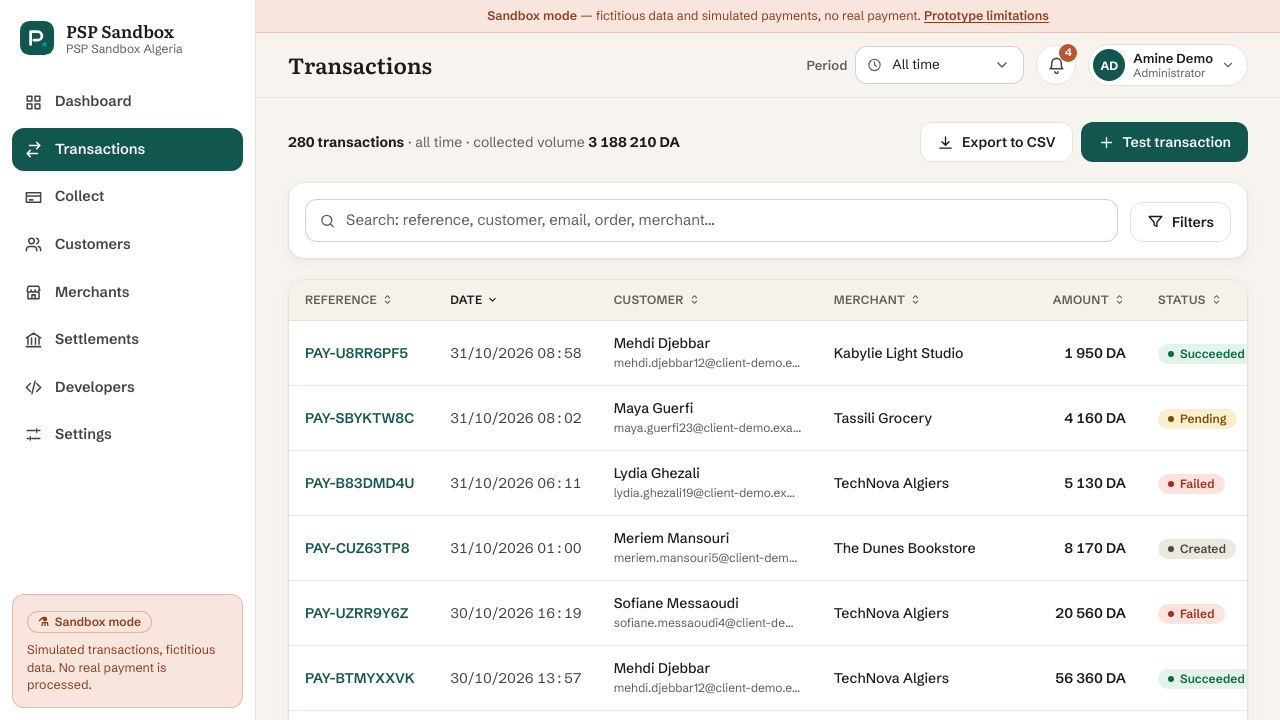
Test case: transaction list: search, filters, sorting, export › regression: a filter clicked while typing is not overwritten by the search debounce
Click the button "Filters" at (1180, 222), box [1130, 202, 1231, 242]
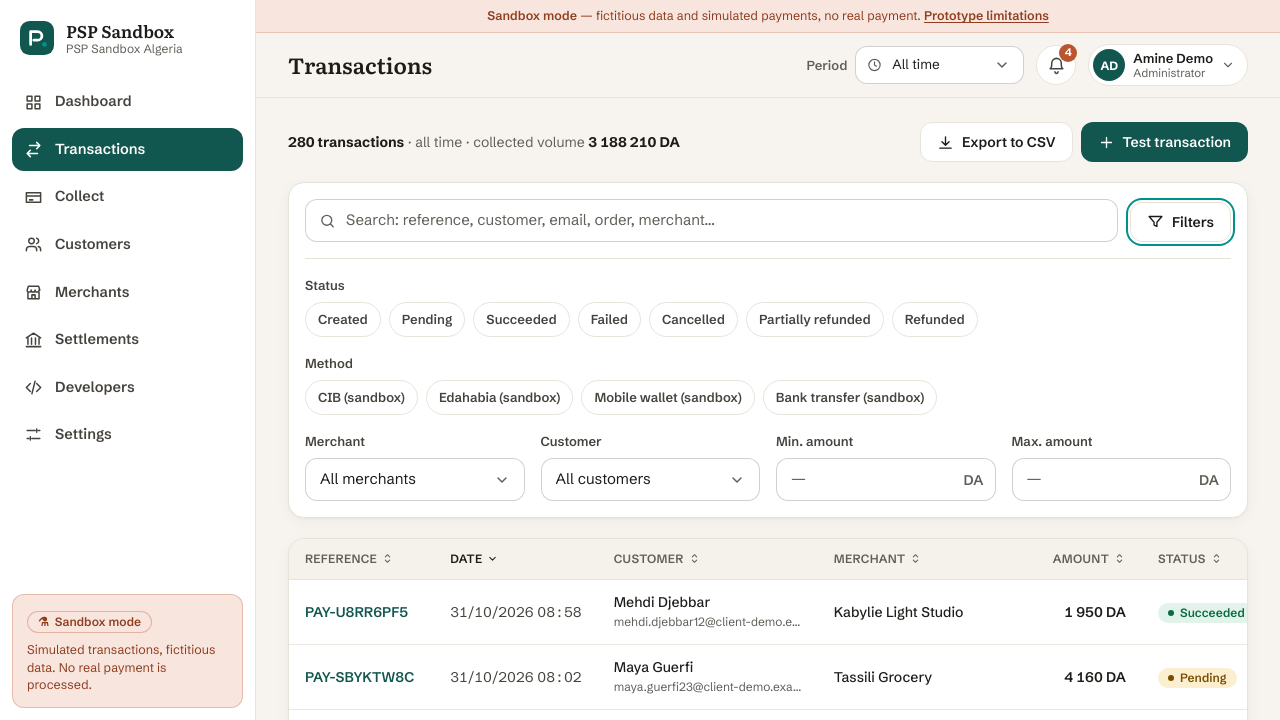
Type "ORD-1" into the search field at (712, 220), box [305, 199, 1118, 242]
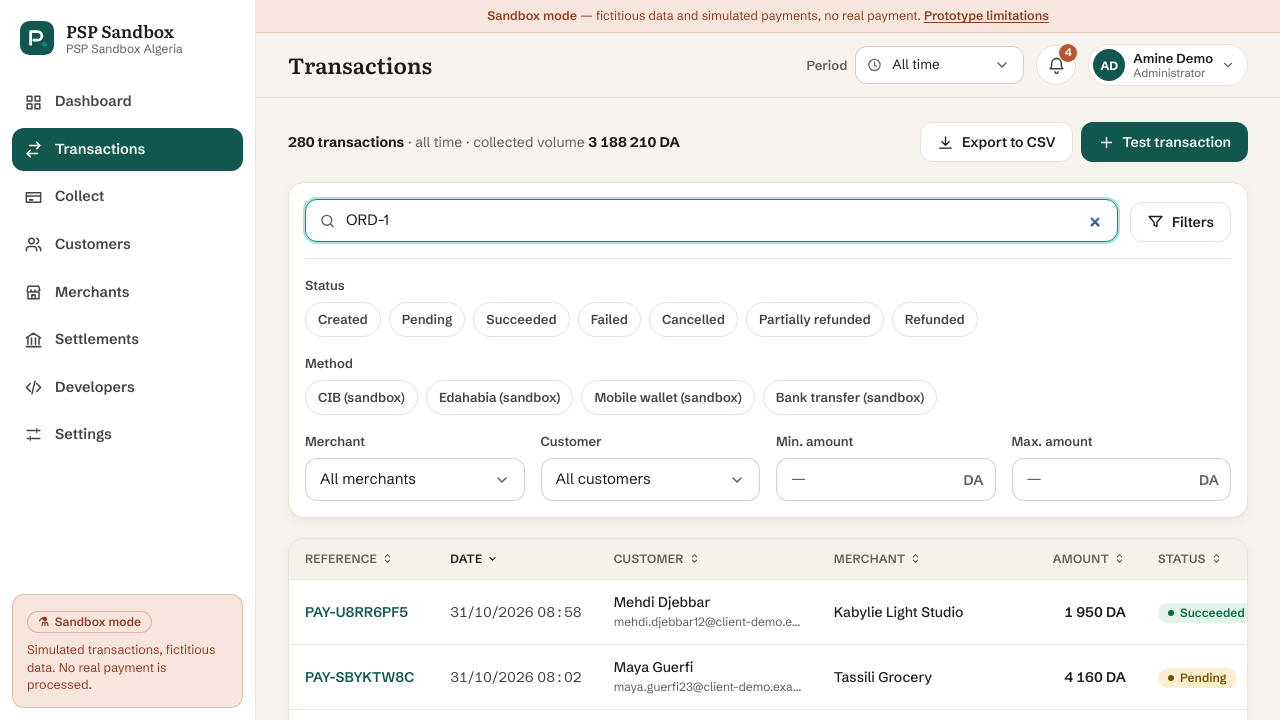
Click the button "Failed" at (609, 319), box [578, 302, 641, 337]
(page scrolled)
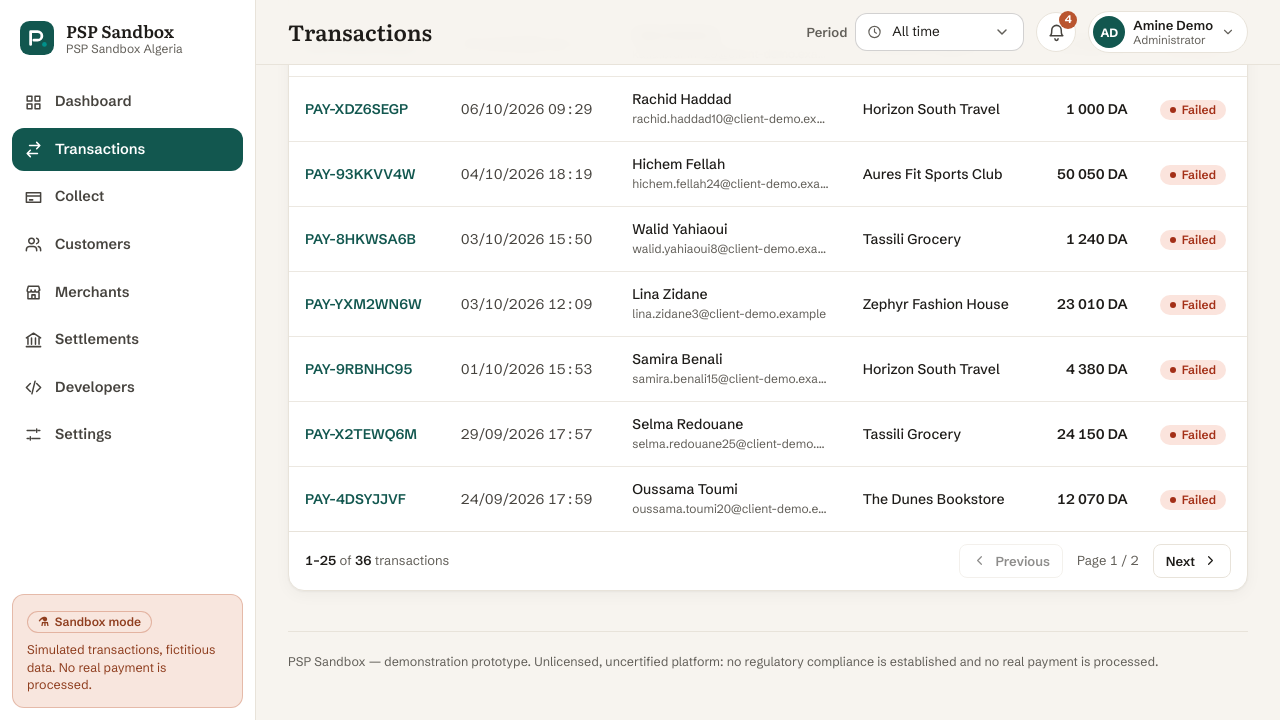
Expected: the text "Failed" is shown, [1160, 35, 1226, 55]
